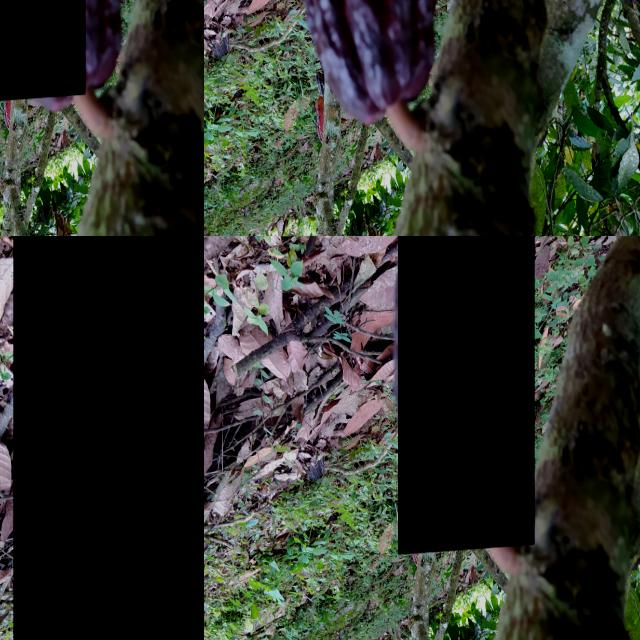Fitoftora: (13, 236, 204, 640), (410, 498, 420, 524)
Sana: (398, 236, 534, 558), (0, 0, 85, 105), (411, 523, 420, 571)
